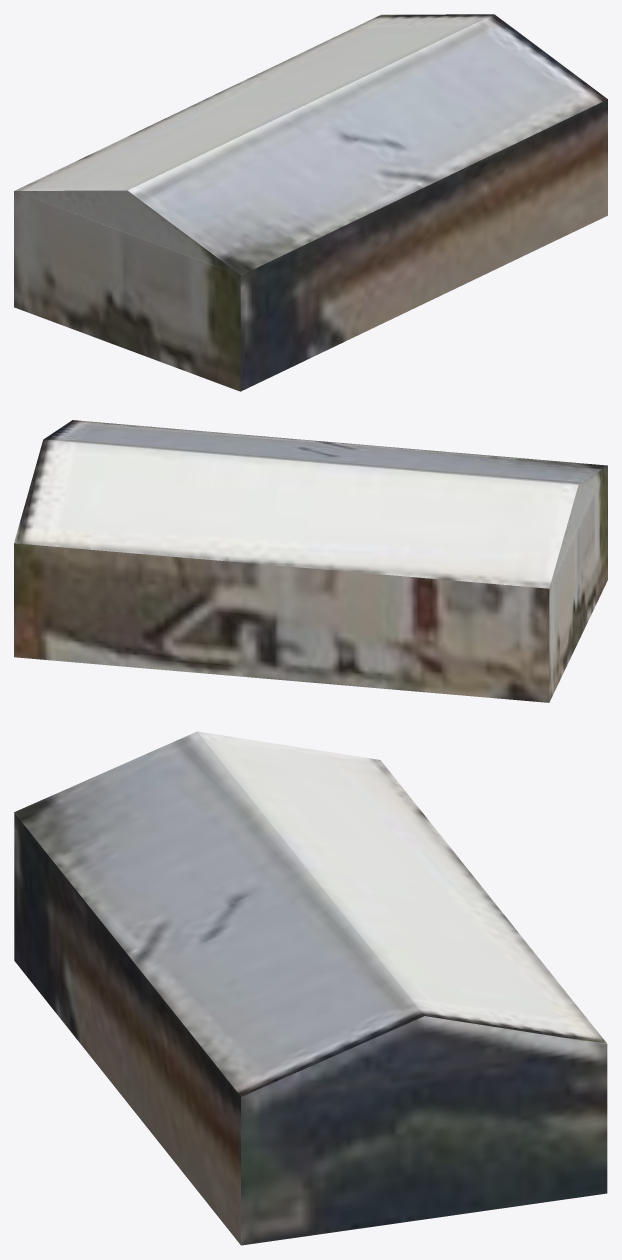
Rendered from EdificiopequeñoCercaDeCafePuro2.fbx.
The picture shows the model from 3 angles, top to bottom: view 1: azimuth 30°, elevation 25°; view 2: azimuth 150°, elevation 25°; view 3: azimuth 270°, elevation 25°; orthographic projection. The views are drawn at different scales.
Parts seen in each view (by area): view 1: skp1D02_1; view 2: skp1D02_1; view 3: skp1D02_1.
Boxes of the visible parts, left/top/right/bottom form: skp1D02_1: left=14, top=14, right=607, bottom=391; skp1D02_1: left=14, top=420, right=607, bottom=702; skp1D02_1: left=14, top=731, right=607, bottom=1245.
Bounding box in the file's own units: 15.33 × 4.32 × 11.42.
